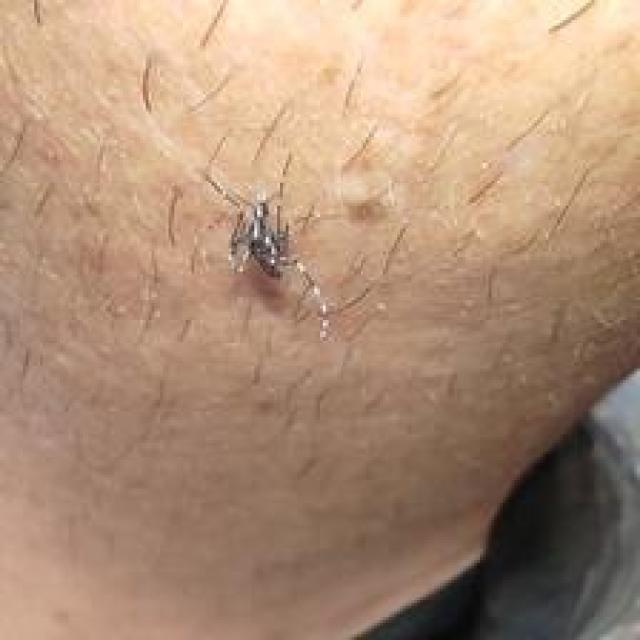Aedes albopictus: (200, 127, 406, 344)
